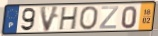0: (120, 4, 139, 30)
9: (19, 7, 37, 32)
H: (58, 6, 80, 32)
O: (78, 5, 100, 31)
V: (39, 5, 61, 33)
Z: (98, 5, 120, 30)
